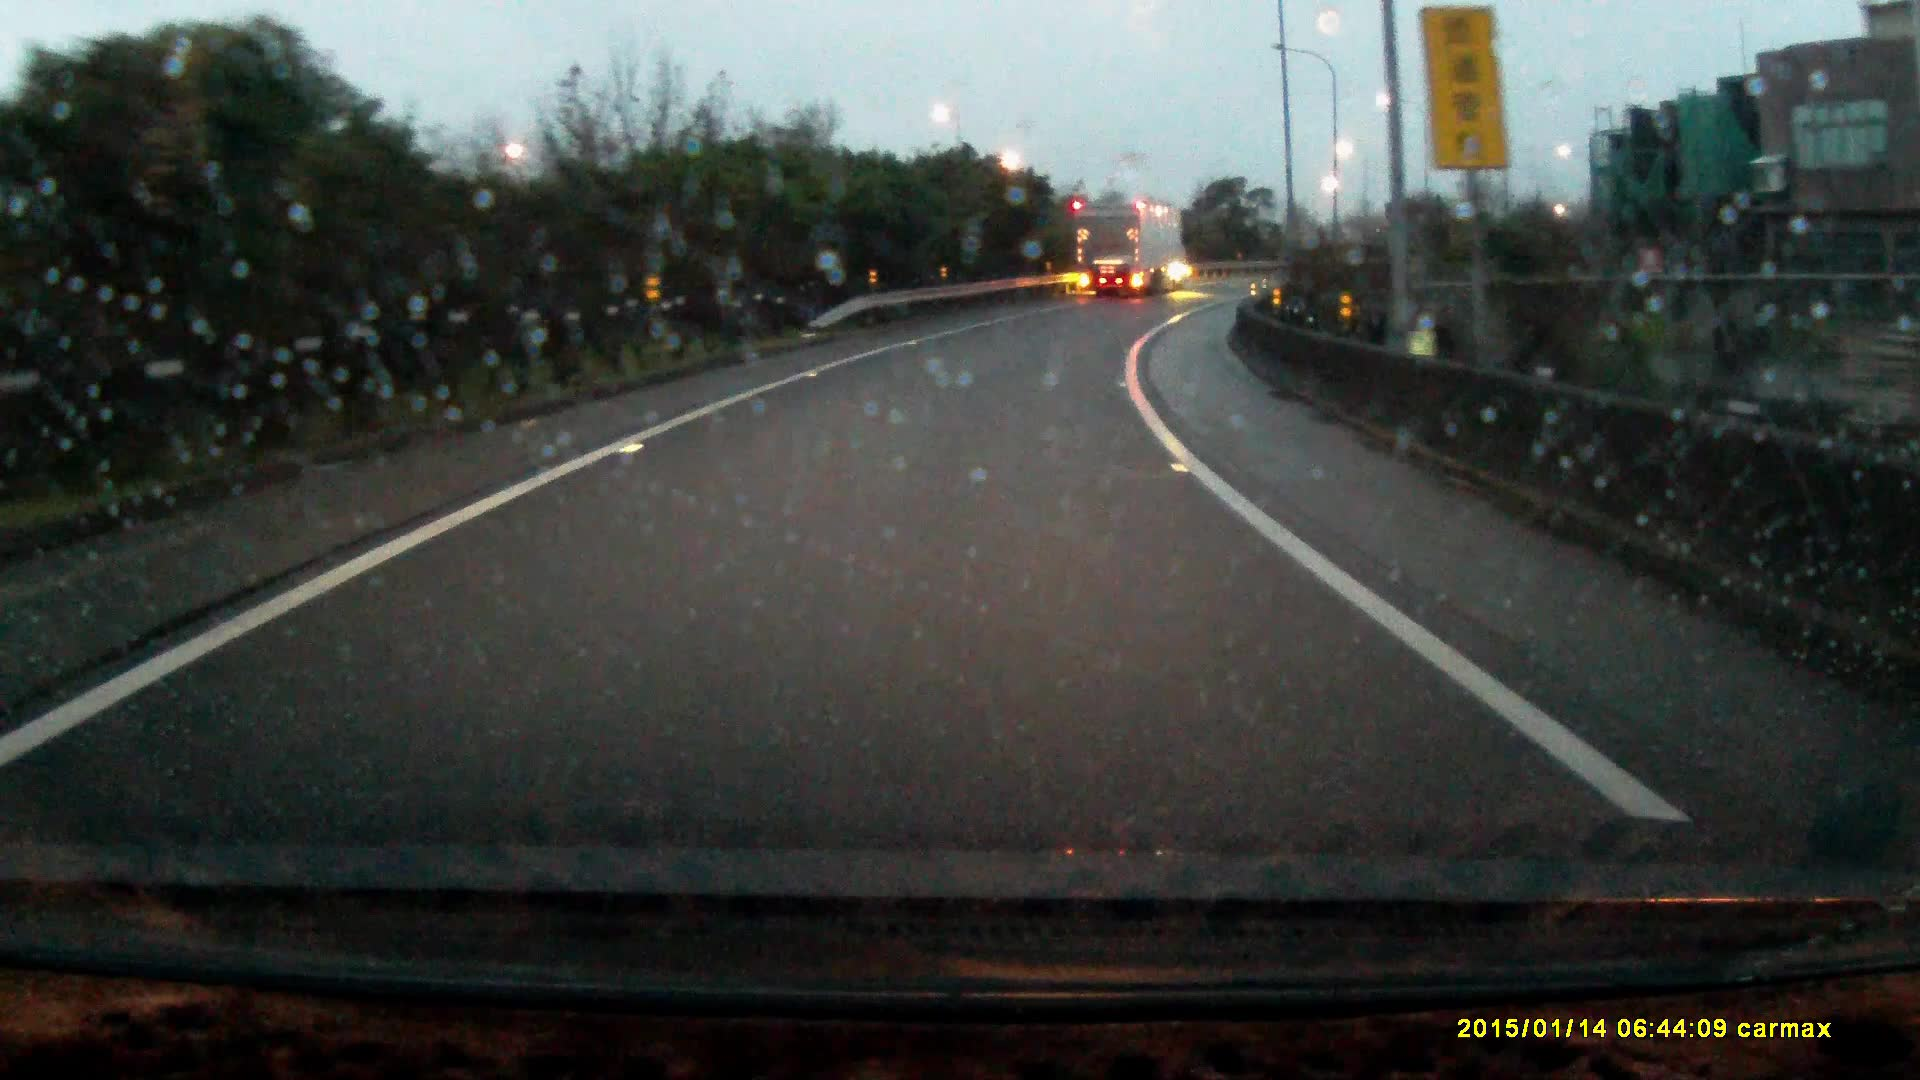vehicle: (1075, 199, 1193, 298)
